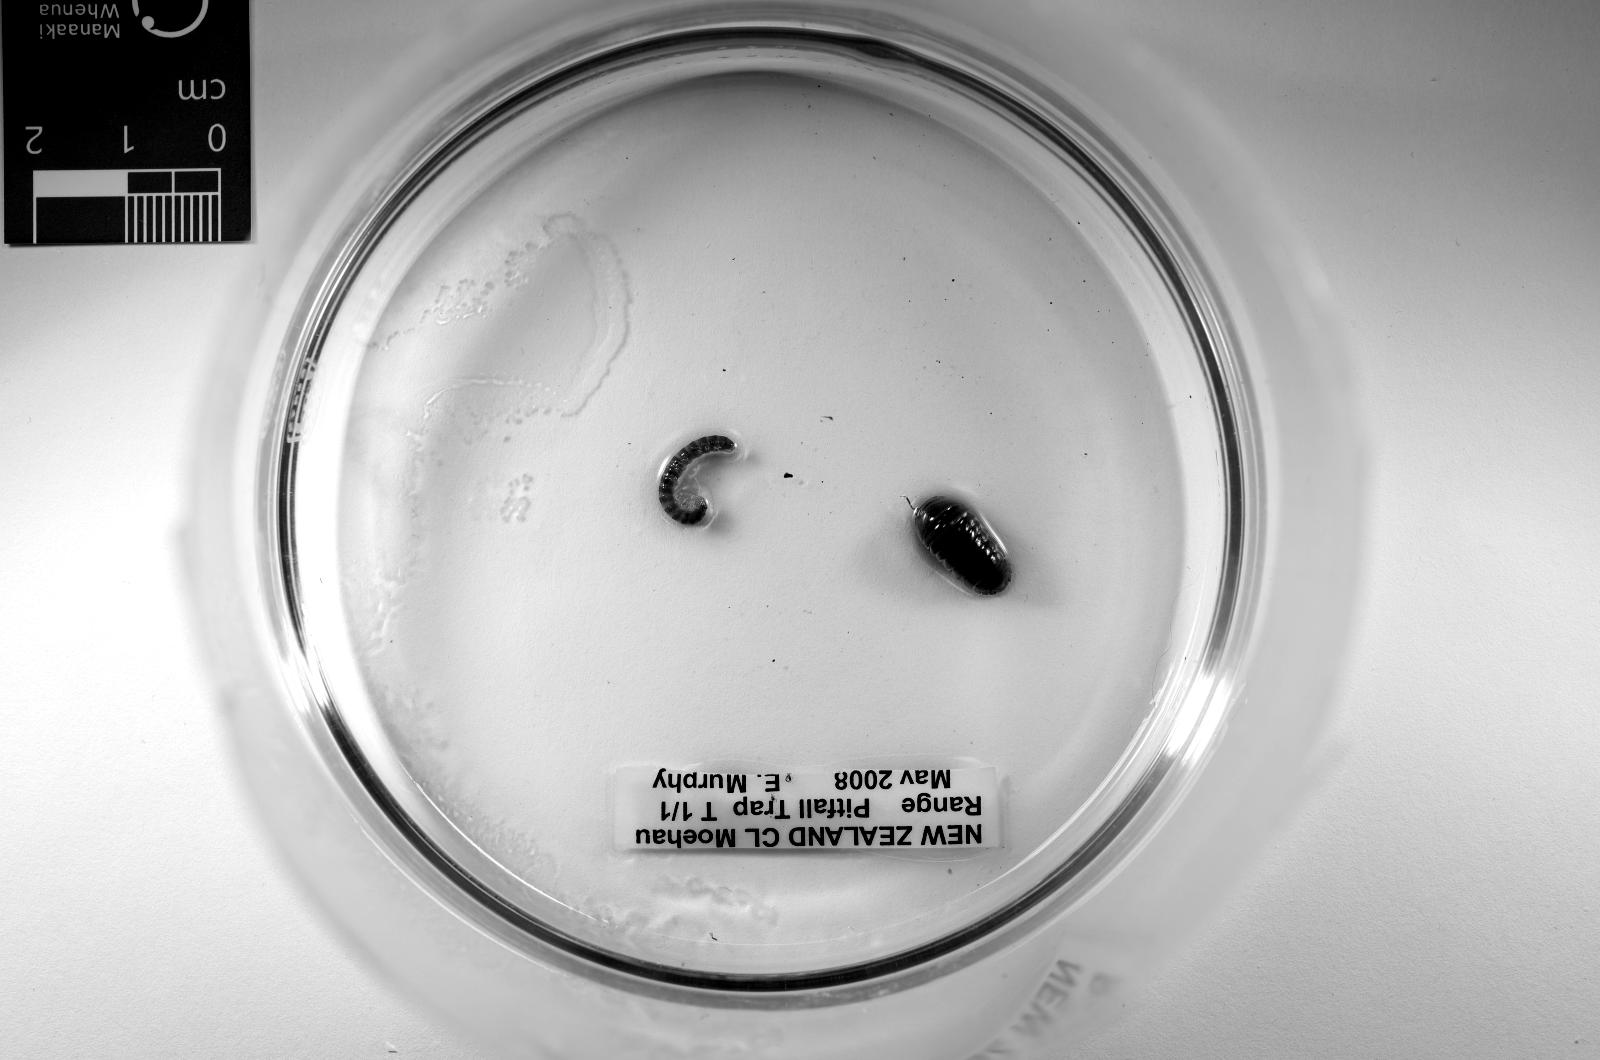diplopoda: (659, 435, 734, 525)
isopoda: (912, 497, 1012, 593)
